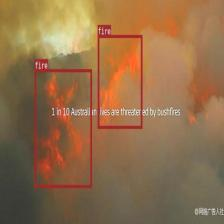fire: (34, 69, 92, 187), (97, 34, 142, 128)
